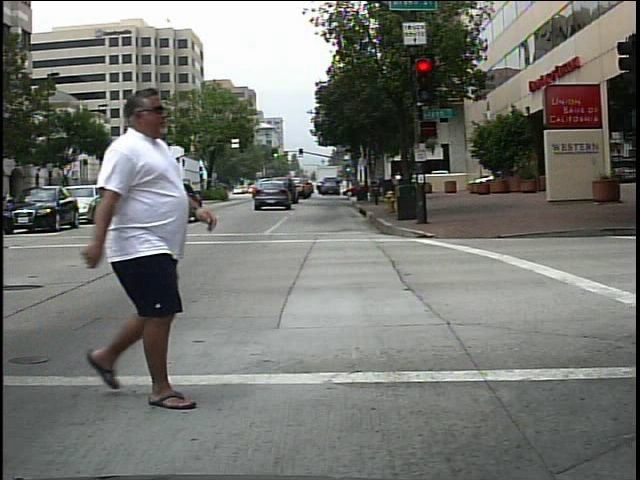person: (48, 84, 215, 410)
